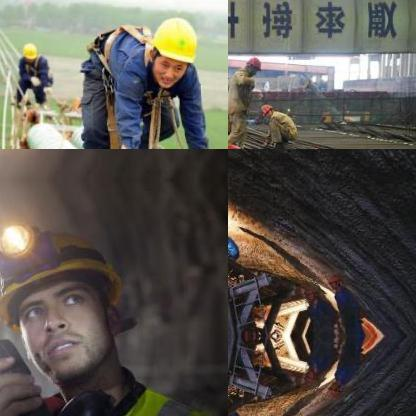Helmet: (0, 230, 140, 391), (143, 10, 201, 88), (242, 52, 262, 74), (22, 40, 38, 62), (256, 100, 275, 116), (324, 270, 338, 288), (324, 380, 338, 398), (302, 283, 316, 299), (302, 369, 316, 385)
